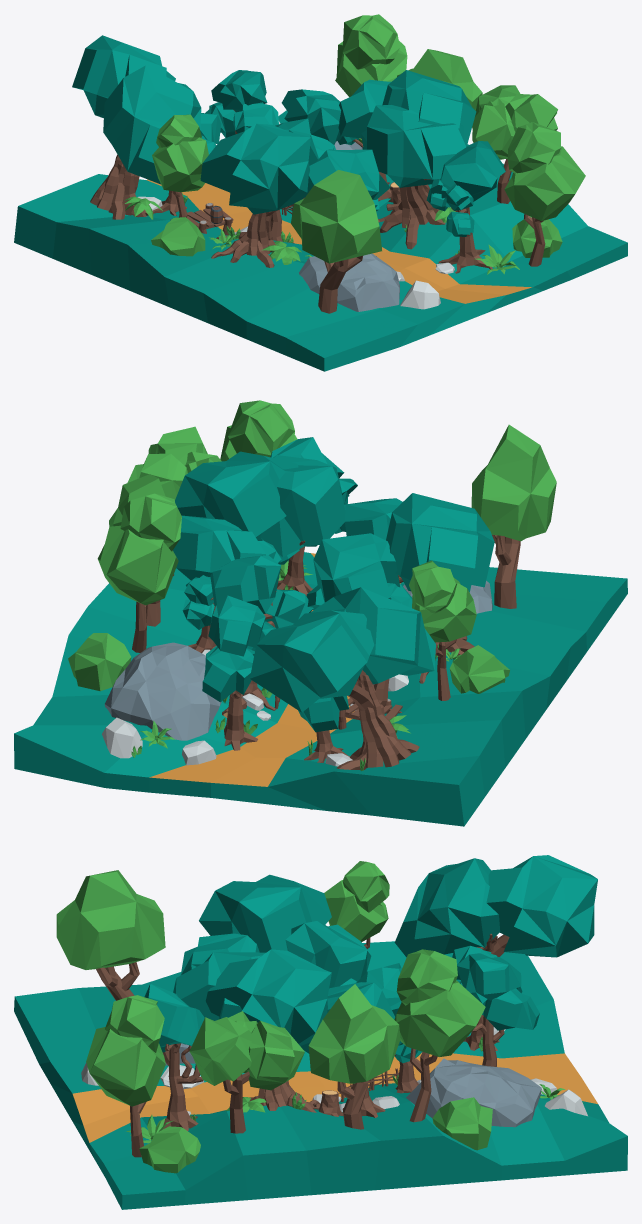
3 views of the same model, one above another, from view 1: azimuth 30°, elevation 25°; view 2: azimuth 150°, elevation 25°; view 3: azimuth 270°, elevation 25° (orthographic). The views are drawn at different scales.
Parts seen in each view (by area): view 1: group2009401224, group1489245576, group403363102, group547813215, group313951583, group1634341855, group2035836735, group1573540807, group506122935, group624080166, group443772894, group561706230 (+22 smaller); view 2: group2009401224, group624080166, group403363102, group1922369548, group2035836735, group1489245576, group443772894, group547813215, group1634341855, group506122935, group1180255365, group1890178627 (+23 smaller); view 3: group2009401224, group624080166, group403363102, group2035836735, group443772894, group1045676722, group1573540807, group547813215, group313951583, group1489245576, group1922369548, group506122935 (+15 smaller).
Boxes of the visible parts, left/top/right/bottom form: group2009401224: left=14, top=110, right=627, bottom=371; group1489245576: left=200, top=123, right=310, bottom=214; group403363102: left=291, top=170, right=381, bottom=313; group547813215: left=103, top=65, right=201, bottom=184; group313951583: left=504, top=122, right=585, bottom=266; group1634341855: left=367, top=105, right=465, bottom=187; group2035836735: left=335, top=14, right=407, bottom=96; group1573540807: left=472, top=85, right=557, bottom=203; group506122935: left=152, top=114, right=208, bottom=217; group624080166: left=72, top=35, right=175, bottom=118; group443772894: left=382, top=70, right=476, bottom=146; group561706230: left=299, top=253, right=399, bottom=311; group2009401224: left=14, top=552, right=627, bottom=826; group624080166: left=250, top=610, right=374, bottom=712; group403363102: left=471, top=424, right=556, bottom=608; group1922369548: left=104, top=642, right=221, bottom=740; group2035836735: left=97, top=493, right=181, bottom=652; group1489245576: left=386, top=493, right=494, bottom=592; group443772894: left=175, top=451, right=298, bottom=540; group547813215: left=310, top=587, right=435, bottom=684; group1634341855: left=260, top=455, right=345, bottom=557; group506122935: left=409, top=560, right=476, bottom=700; group1180255365: left=313, top=533, right=399, bottom=602; group1890178627: left=173, top=515, right=265, bottom=580; group2009401224: left=14, top=941, right=627, bottom=1209; group624080166: left=486, top=855, right=597, bottom=957; group403363102: left=56, top=870, right=165, bottom=1000; group2035836735: left=394, top=949, right=485, bottom=1122; group443772894: left=205, top=949, right=331, bottom=1045; group1045676722: left=308, top=984, right=400, bottom=1129; group1573540807: left=189, top=1011, right=304, bottom=1133; group547813215: left=394, top=858, right=500, bottom=957; group313951583: left=86, top=995, right=165, bottom=1157; group1489245576: left=199, top=874, right=331, bottom=952; group1922369548: left=406, top=1058, right=541, bottom=1127; group506122935: left=324, top=861, right=389, bottom=948.
Bounding box in the file's own units: 1.4 × 0.581 × 1.52.
